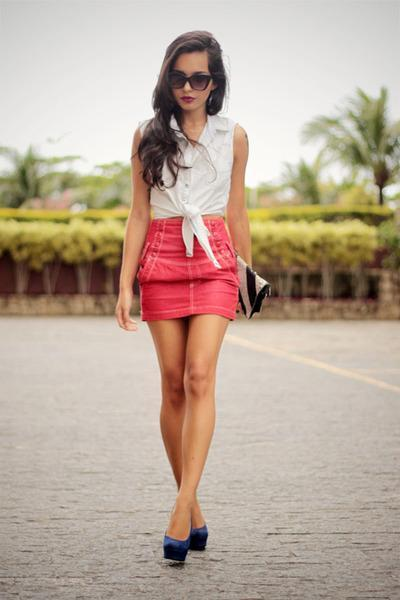bag: (239, 267, 267, 317)
shirt: (151, 114, 233, 251)
shoe: (164, 524, 207, 569)
skirt: (132, 214, 252, 323)
sunglass: (160, 60, 196, 88)
